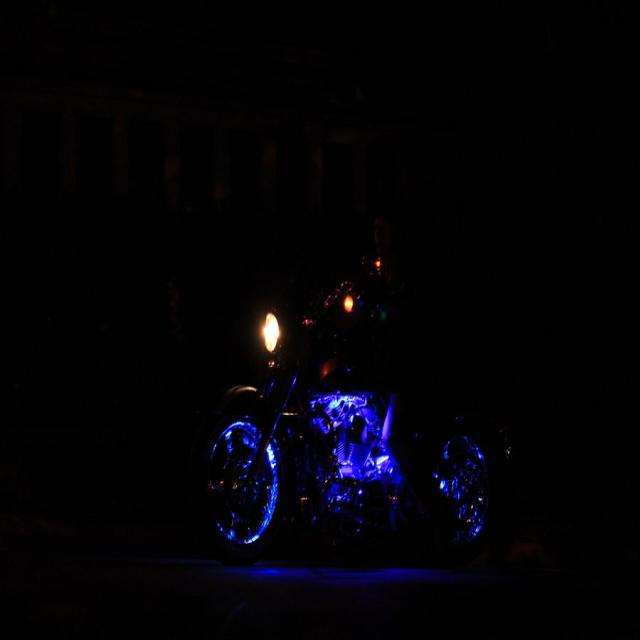Motorbike: (217, 298, 501, 560)
People: (340, 175, 483, 562)
